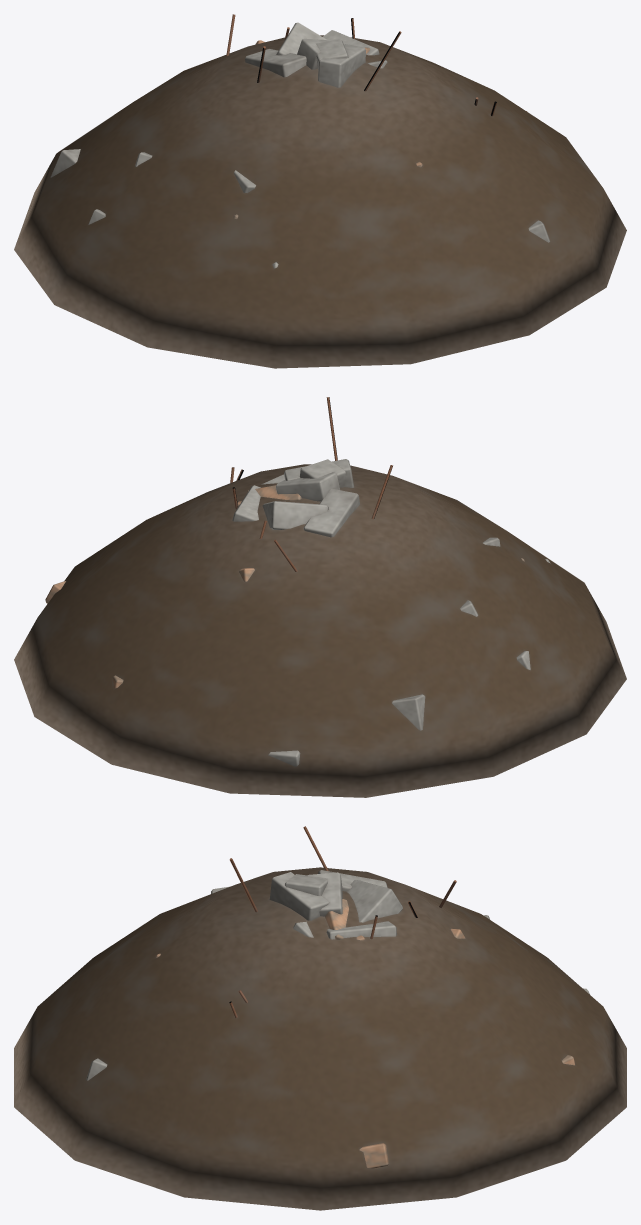
The model's file is wysypisko_halda.glb.
3 renders of one model, top to bottom at view 1: azimuth 30°, elevation 25°; view 2: azimuth 150°, elevation 25°; view 3: azimuth 270°, elevation 25°, orthographic. The views are drawn at different scales.
Parts seen in each view (by area): view 1: Halda; view 2: Halda; view 3: Halda.
Boxes of the visible parts, left/top/right/bottom form: Halda: left=14, top=14, right=626, bottom=368; Halda: left=14, top=397, right=626, bottom=797; Halda: left=14, top=826, right=626, bottom=1210.
Bounding box in the file's own units: 5.2 × 2.16 × 5.07.
1 material, 1 textured.
